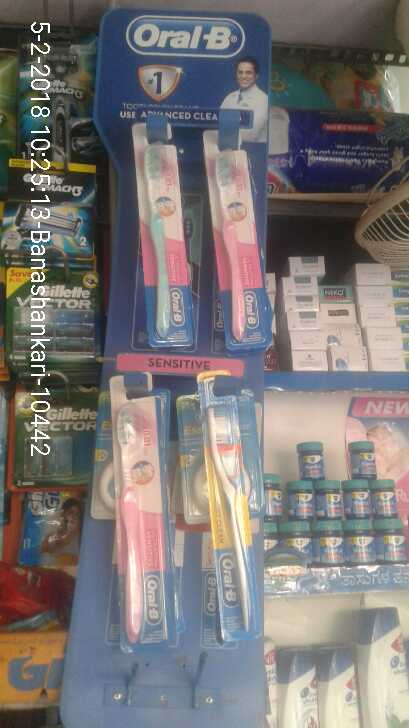beauty: (1, 176, 105, 366), (19, 45, 107, 162), (11, 386, 104, 483)
pharmacy: (196, 380, 263, 660), (264, 439, 409, 564), (103, 404, 168, 651), (205, 154, 271, 351), (135, 148, 196, 346)
